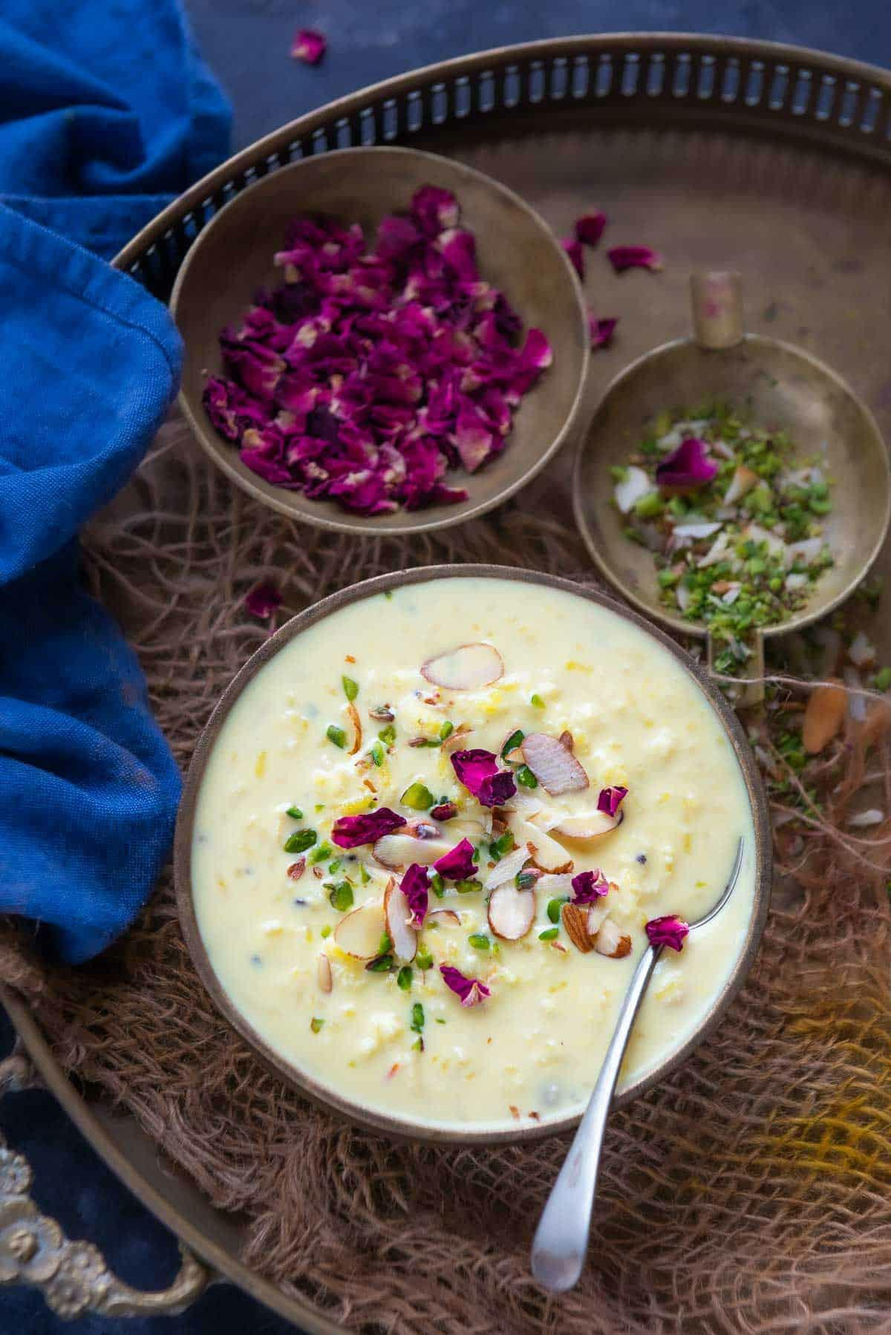Kheer: (195, 584, 754, 1135)
